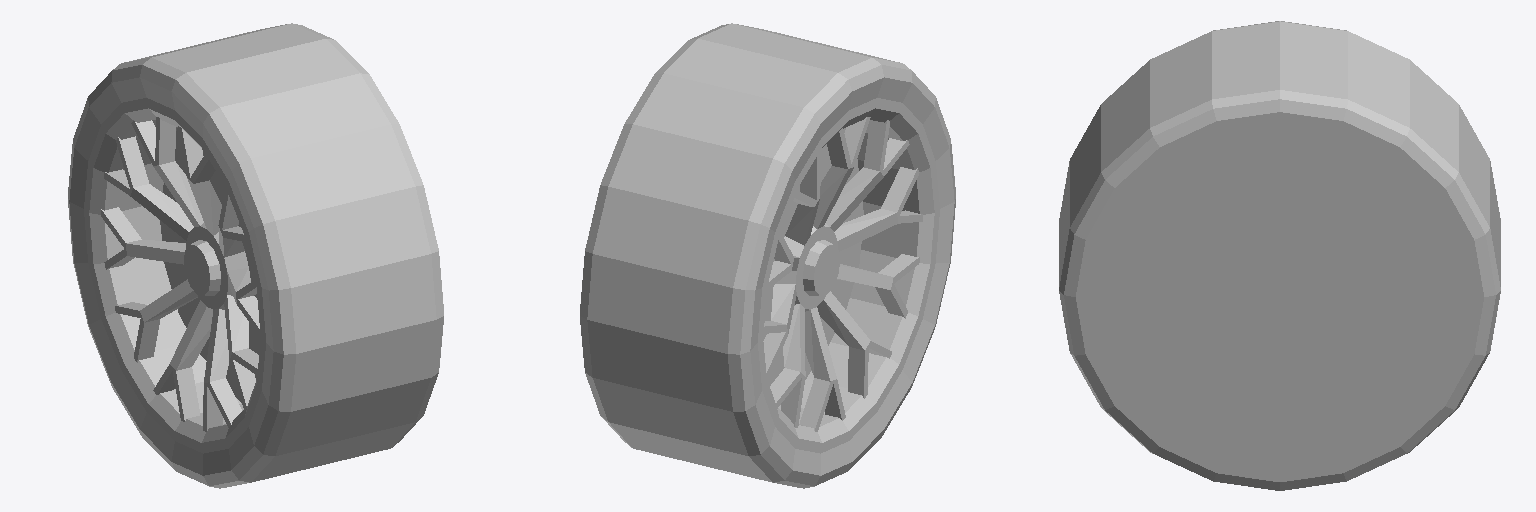
File: Lamborghini_Aventador_rear_right_wheel.obj
3 views of the same model, side by side, from view 1: azimuth 30°, elevation 25°; view 2: azimuth 150°, elevation 25°; view 3: azimuth 270°, elevation 25° (orthographic).
Parts seen in each view (by area): view 1: Lamborghini_Aventador:Wheel_RR.001; view 2: Lamborghini_Aventador:Wheel_RR.001; view 3: Lamborghini_Aventador:Wheel_RR.001.
Boxes of the visible parts, <box> form: Lamborghini_Aventador:Wheel_RR.001: <box>68,23,443,488</box>; Lamborghini_Aventador:Wheel_RR.001: <box>580,23,955,488</box>; Lamborghini_Aventador:Wheel_RR.001: <box>1059,21,1500,490</box>.
Bounding box in the file's own units: 0.3504 × 0.794 × 0.794.